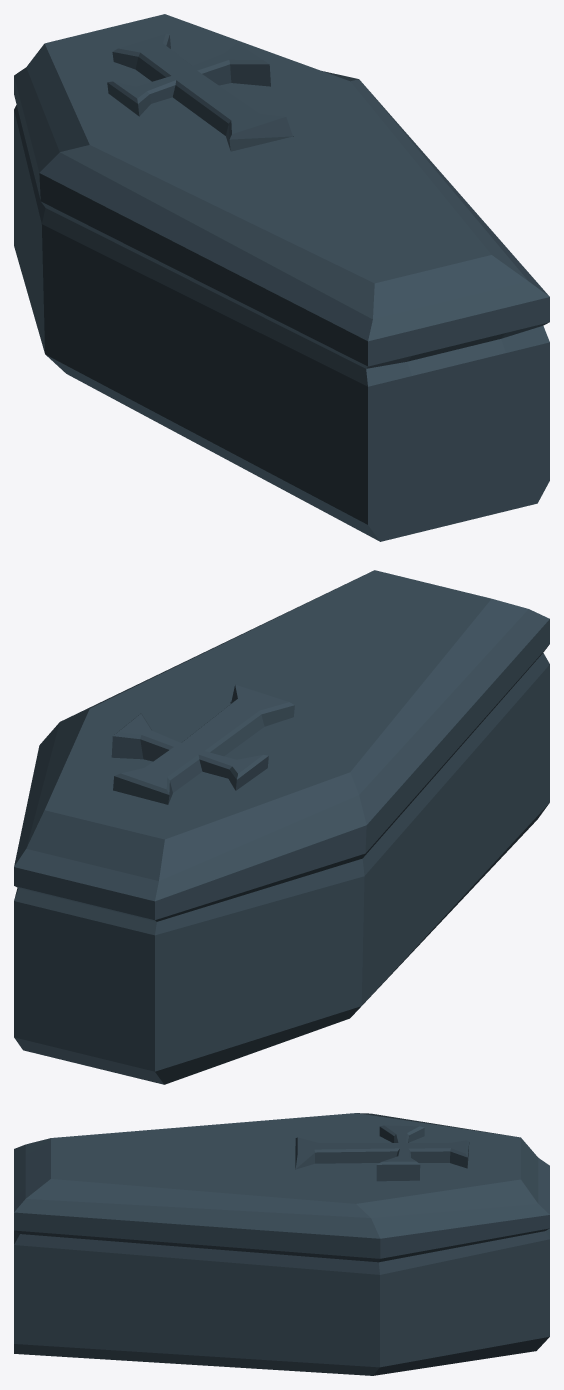
File: Coffin_Closed.fbx
3 views of the same model, one above another, from view 1: azimuth 30°, elevation 25°; view 2: azimuth 150°, elevation 25°; view 3: azimuth 270°, elevation 25° (orthographic). The views are drawn at different scales.
Visible parts, largest first — view 1: Coffin Closed; view 2: Coffin Closed; view 3: Coffin Closed.
Boxes of the visible parts, x1,y1,x2,y2 form: Coffin Closed: [14, 14, 549, 541]; Coffin Closed: [14, 570, 549, 1084]; Coffin Closed: [14, 1113, 549, 1375].
Size of the model in its own units: 108 by 81.67 by 213.
